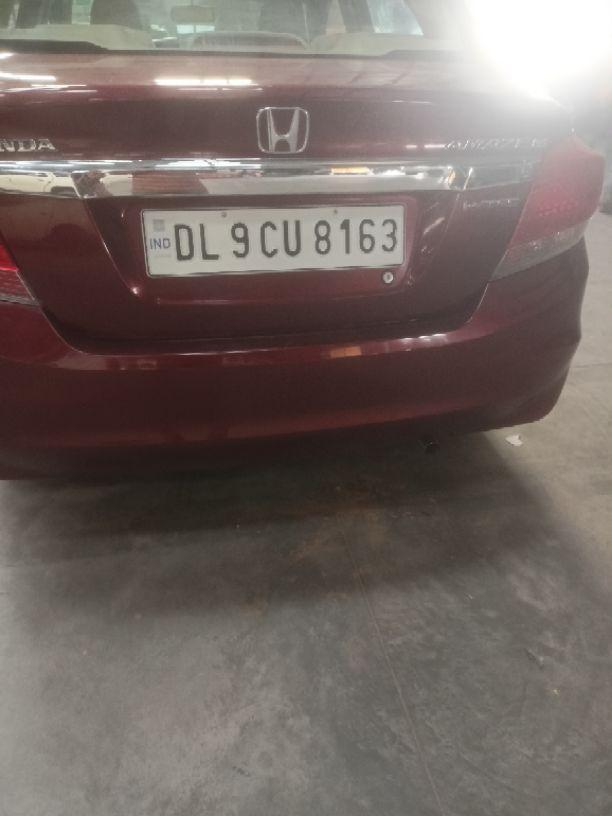license_plate: (139, 201, 406, 278)
